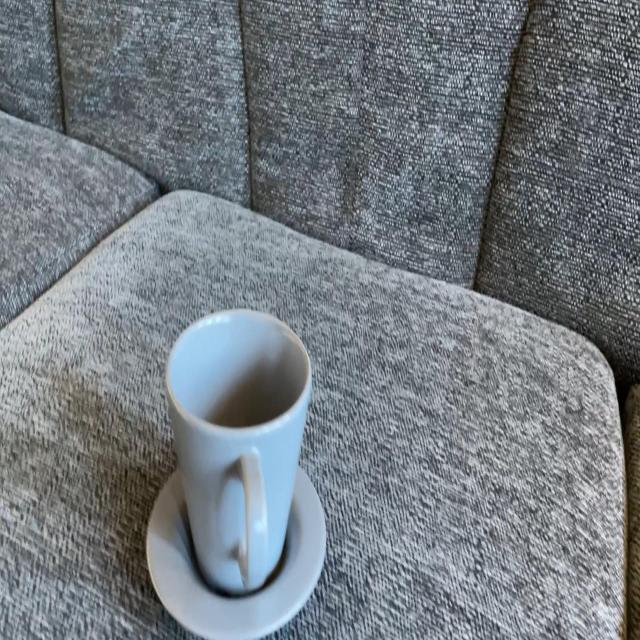cup: (164, 308, 314, 602)
